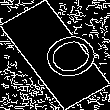O_SW: (16, 23, 94, 87)
